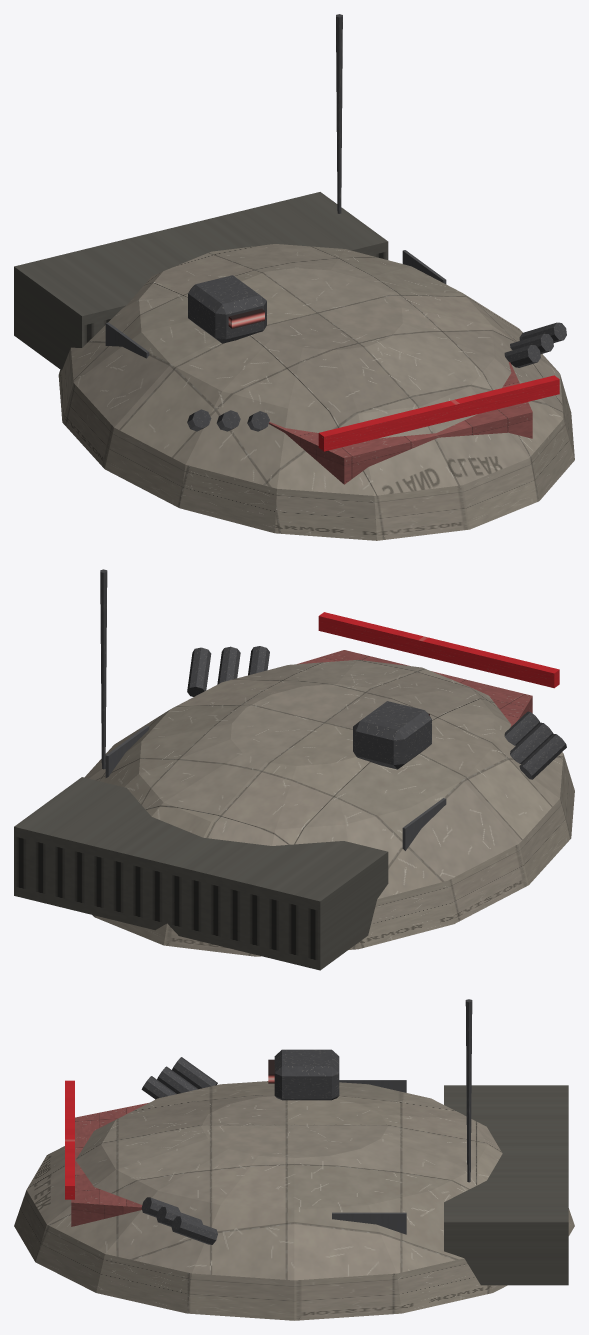
The model's file is tank_turret.obj.
The picture shows the model from 3 angles, top to bottom: view 1: azimuth 30°, elevation 25°; view 2: azimuth 150°, elevation 25°; view 3: azimuth 270°, elevation 25°; orthographic projection. The views are drawn at different scales.
Parts seen in each view (by area): view 1: ravager_turret; view 2: ravager_turret; view 3: ravager_turret.
Part boxes in pixels (box(x1,y1,x2,y2)): ravager_turret: box(14, 14, 574, 540); ravager_turret: box(14, 569, 574, 970); ravager_turret: box(14, 999, 574, 1320).
Bounding box in the file's own units: 1.8 × 1.24 × 2.25.
1 material, 1 textured.
